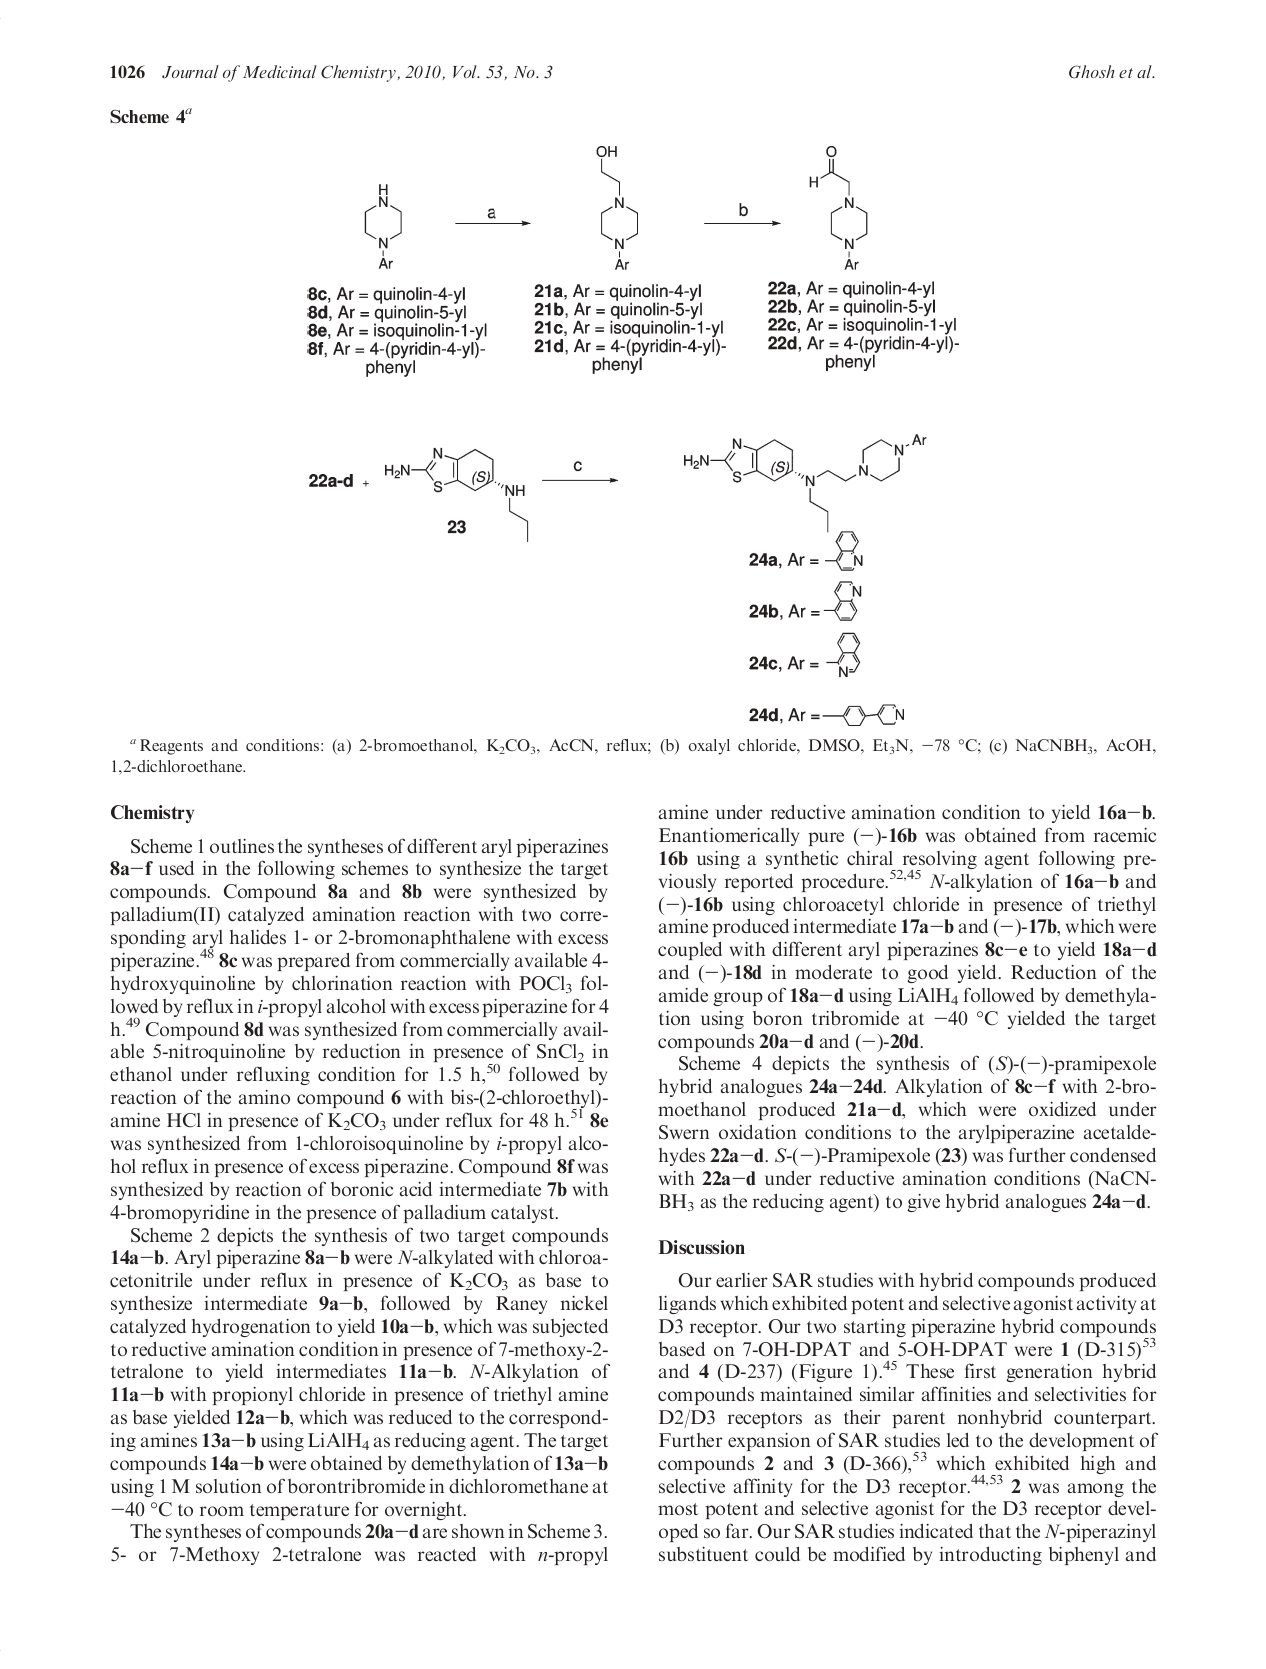exist_molecular: (681, 432, 930, 533), (384, 446, 532, 543), (806, 145, 870, 273), (594, 142, 640, 271), (364, 182, 406, 271), (821, 701, 906, 726), (824, 630, 862, 678), (824, 529, 864, 573), (823, 578, 863, 622)
